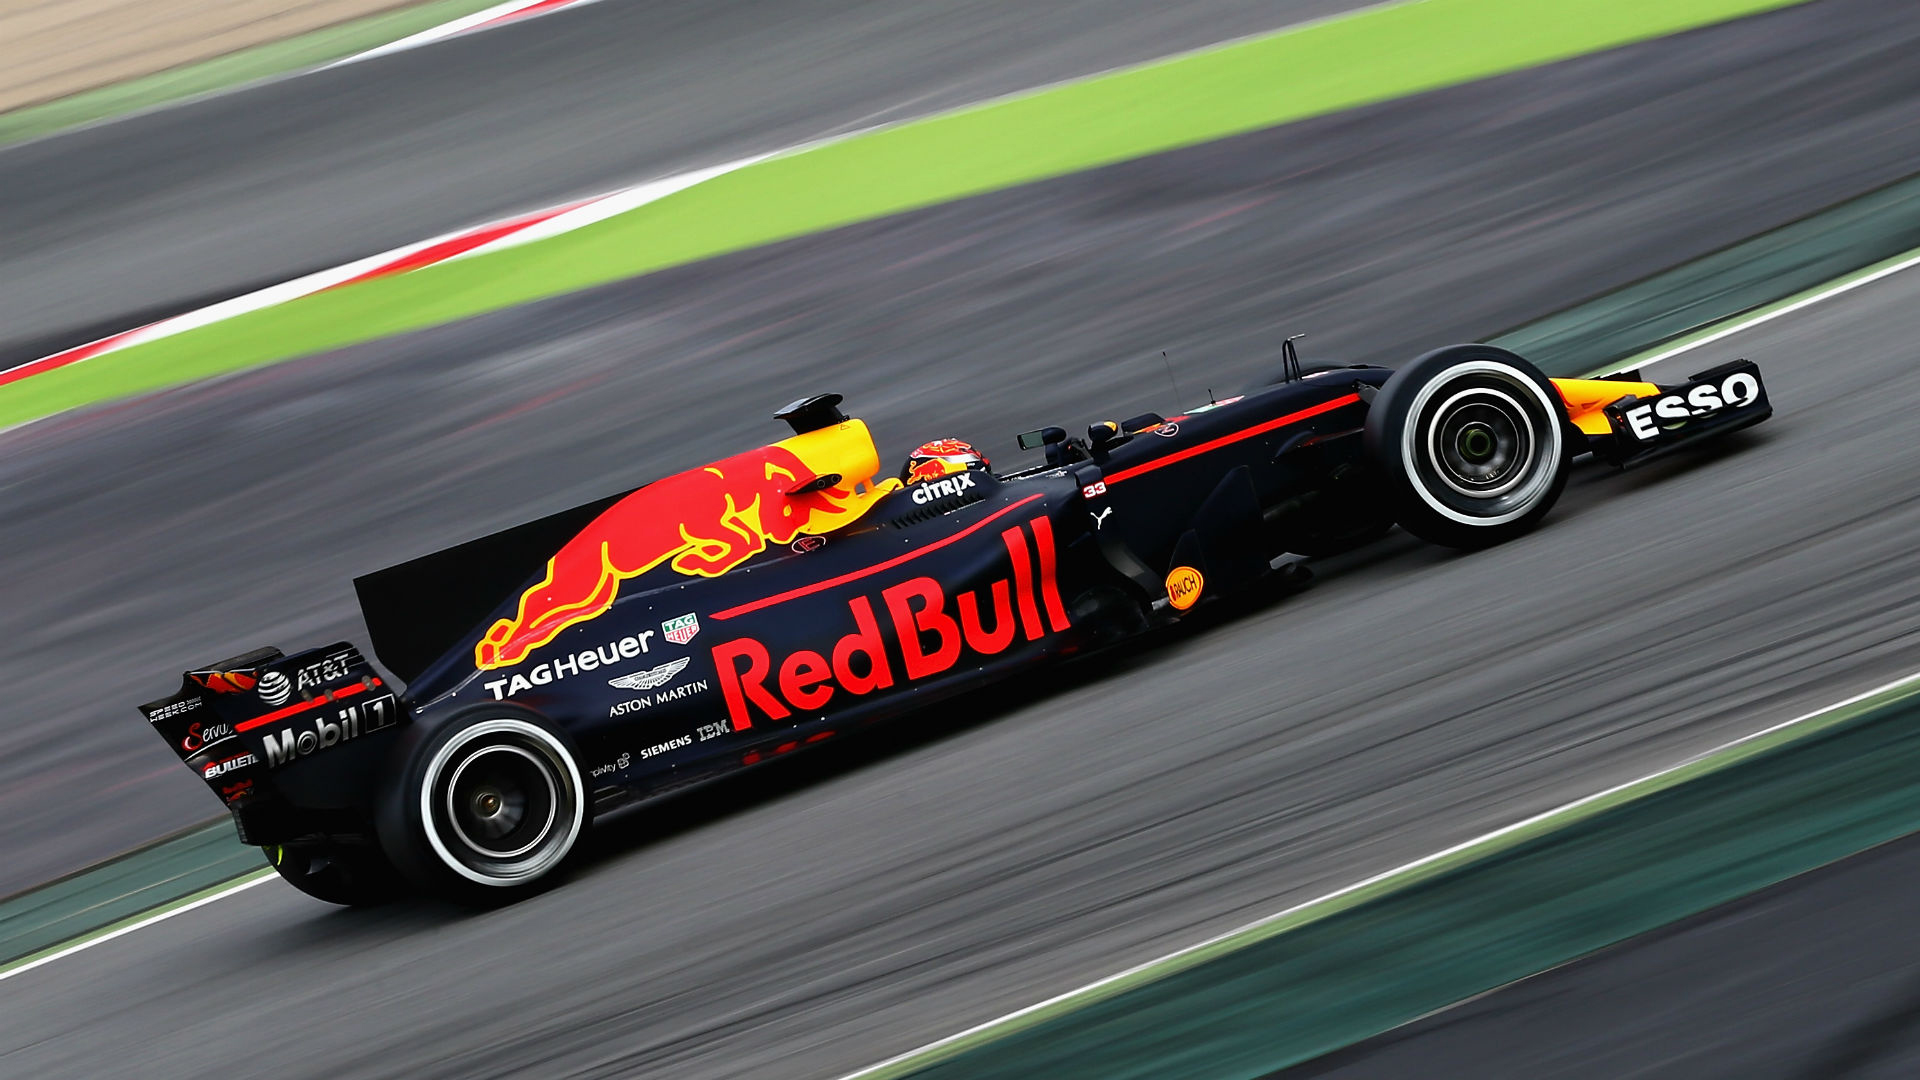F1 Car: (109, 313, 1778, 915)
